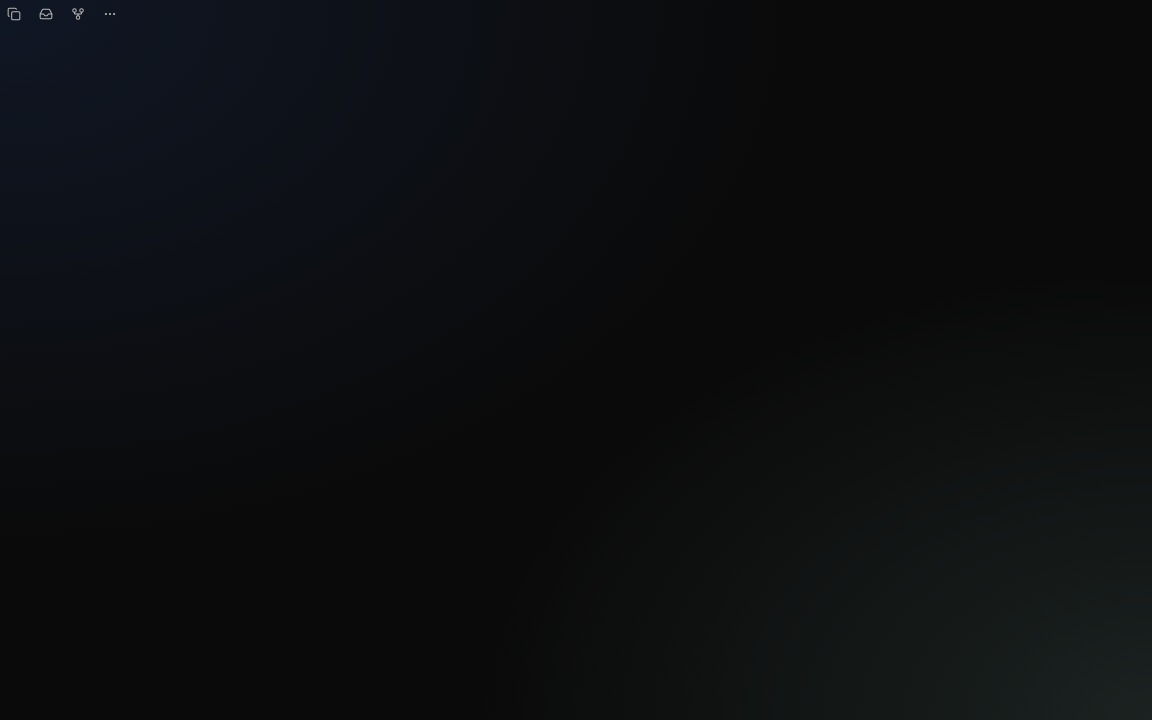
Test: fork actions › opens the worktree dialog from the secondary menu without forking immediately
This screenshot has width=1152, height=720.
Click the button with test id "message-more".
click(110, 14)  # box top-left (96, 0), bottom-right (124, 28)
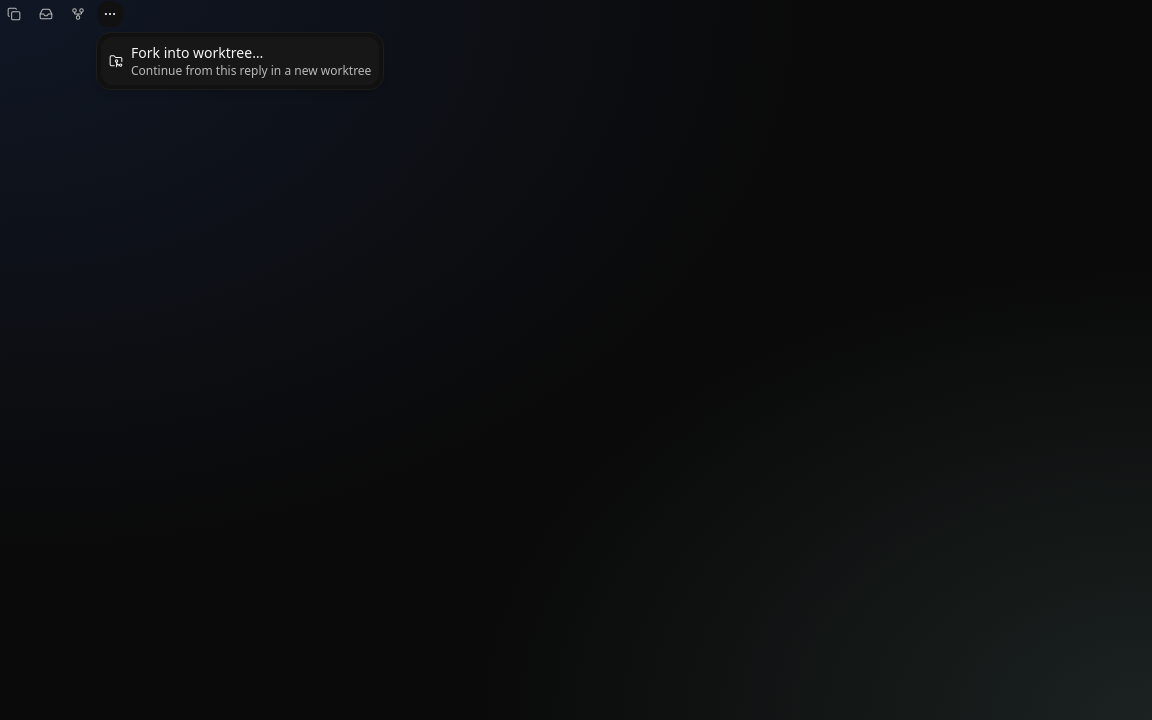
Click the menu item with test id "message-fork-worktree".
click(240, 61)  # box top-left (101, 37), bottom-right (379, 85)
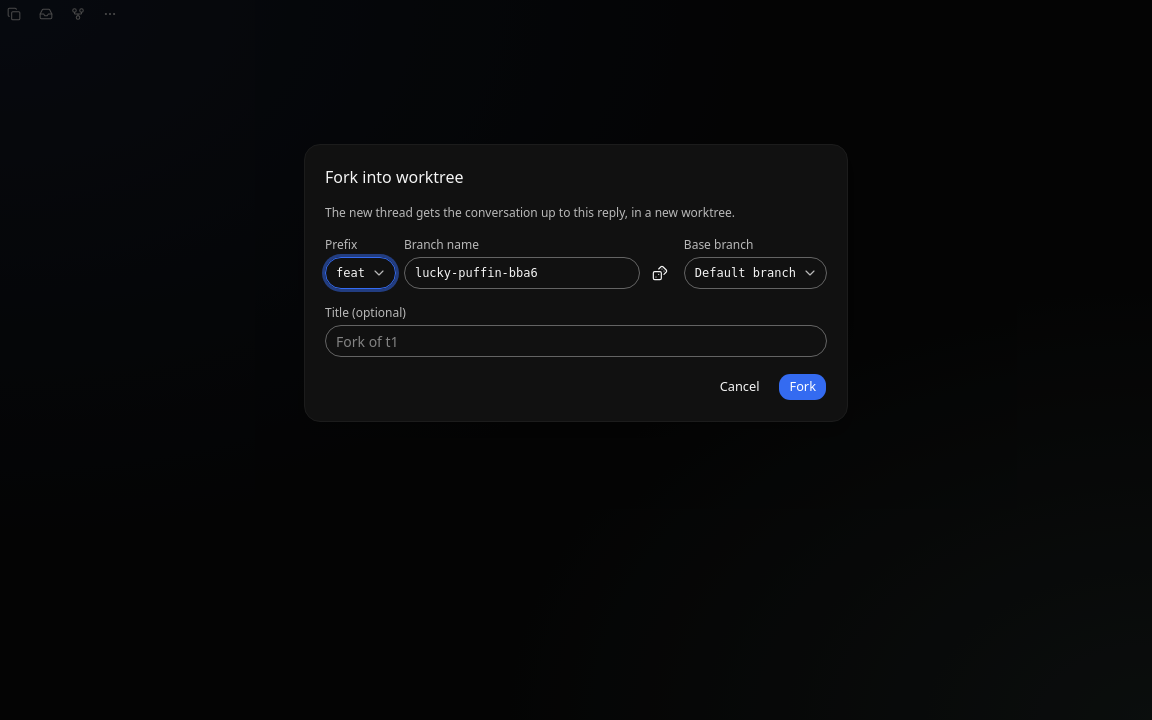
Result: the dialog with test id "fork-dialog" is shown at top-left (304, 144), bottom-right (848, 422)
